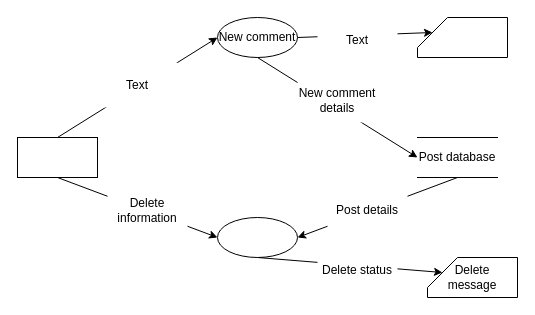
Some shapes in this 535 by 315 pixel diagram are drawn without their labels. The centre of each missing label's shape, as x and y in pixels:
"Delete post" goes at [257,237].
"Display Comment" goes at [462,37].
"User input" goes at [57,157].
